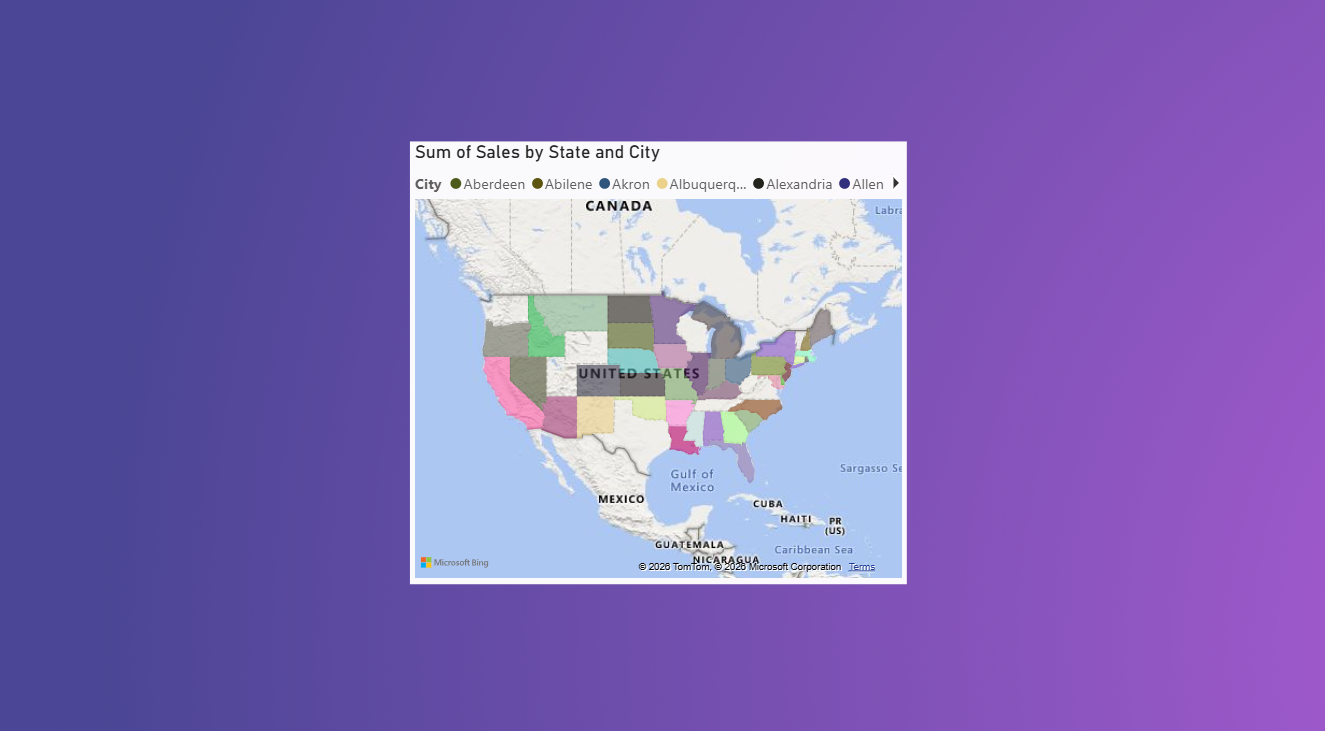

The dashboard page shown, as its layout file describes it:
{"tool":"powerbi","page":{"name":"Page 6","canvas":[1280,720],"ordinal":5},"visuals":[{"type":"filledMap","fields":{"Category":["Data.State"],"Series":["Data.City"]},"box":[0,0,463.3,411.1],"z":0}]}

Visuals, with their boxes in screenshot pixels (x1, y1, x2, y2), scaled from the page's 1280x720 canvas onto the 1325x731 screenshot:
filledMap - Data.State x Data.City: rect(0, 0, 480, 417)
